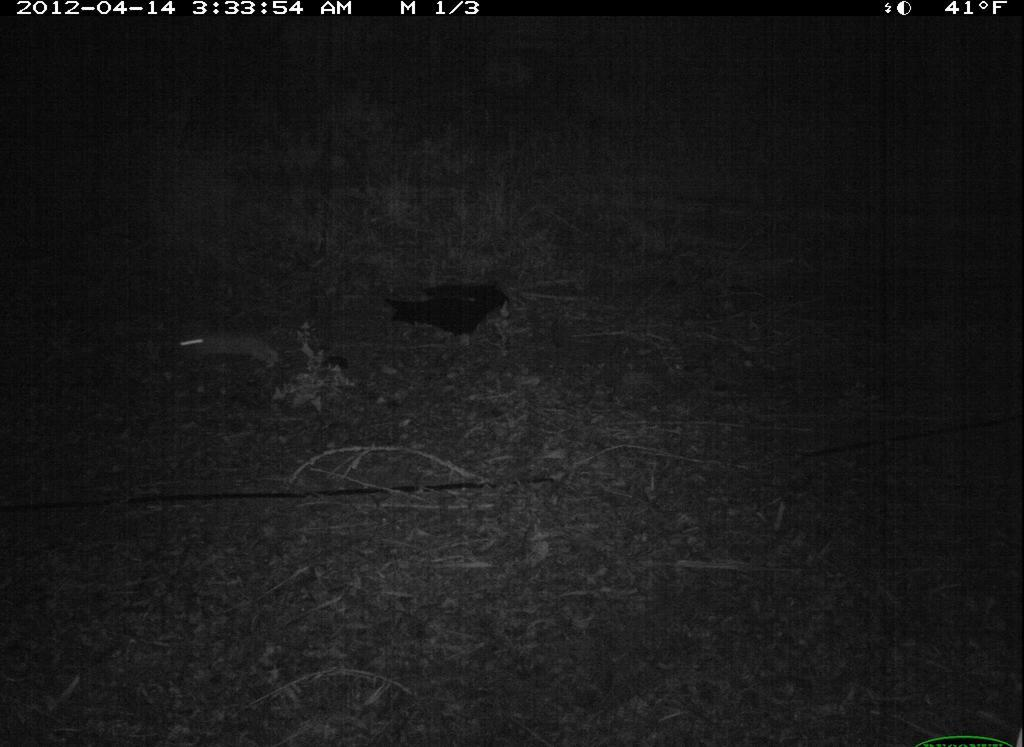rabbit: (171, 321, 301, 386)
